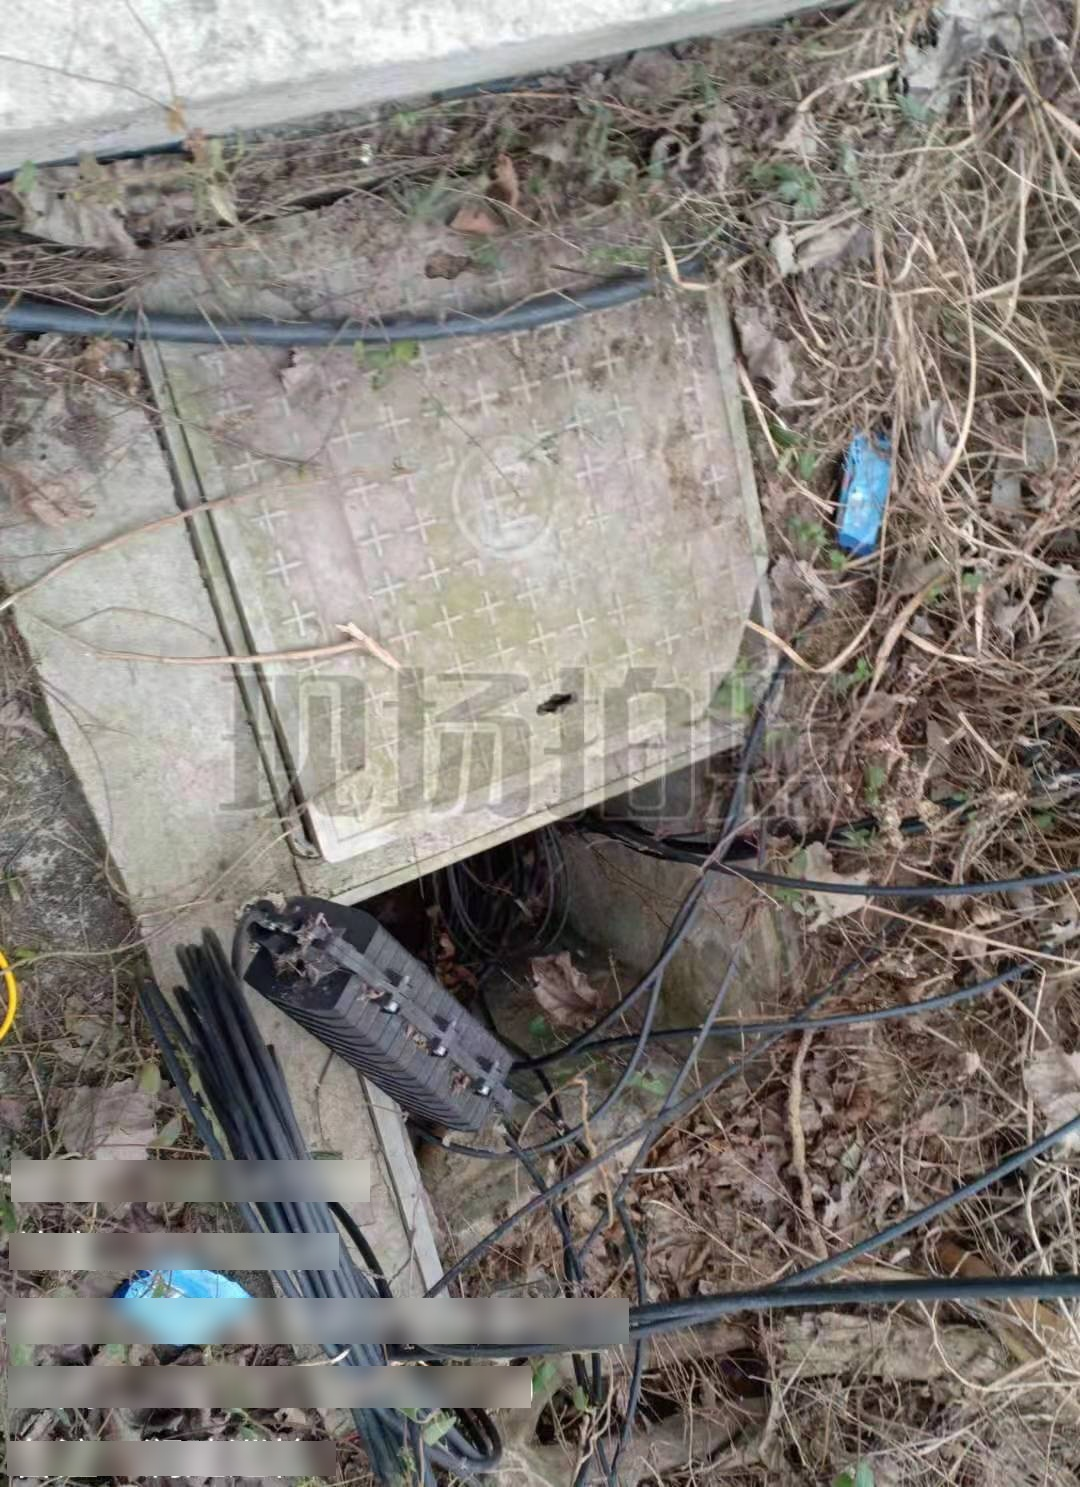lose: (127, 163, 832, 1337)
